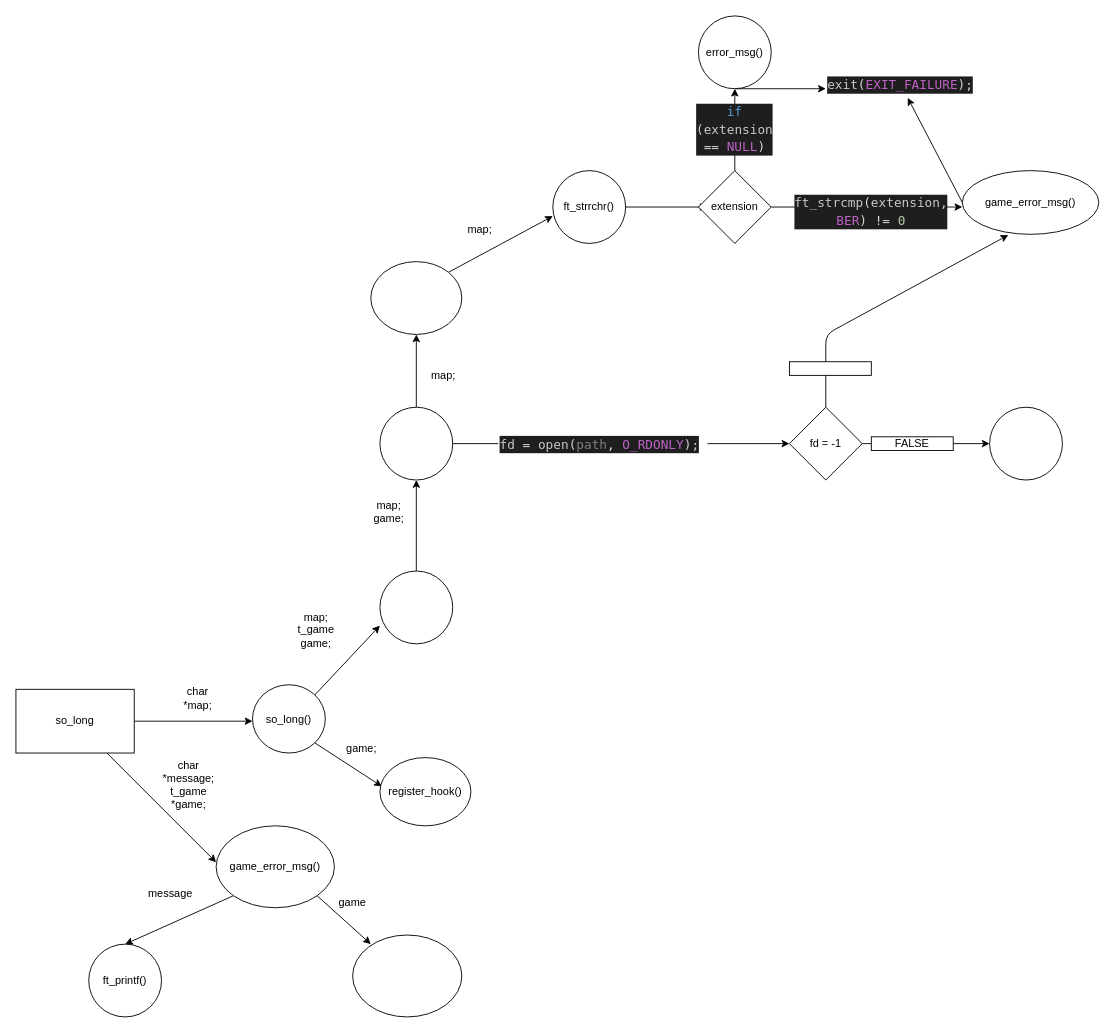
Image size: 1115x1033. Some labels were removed from this diagram. The shapes that lost their labels are listed below. From the top down, each one's centre as x and y in pixels, then its label:
[416,297]: check_file_ext()
[830,368]: TRUE
[416,443]: build_map()
[1025,443]: read_map()
[416,607]: game_build()
[407,975]: shut_game_down()
